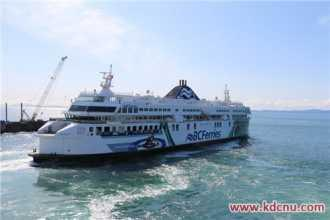youlun: (15, 84, 256, 161)
